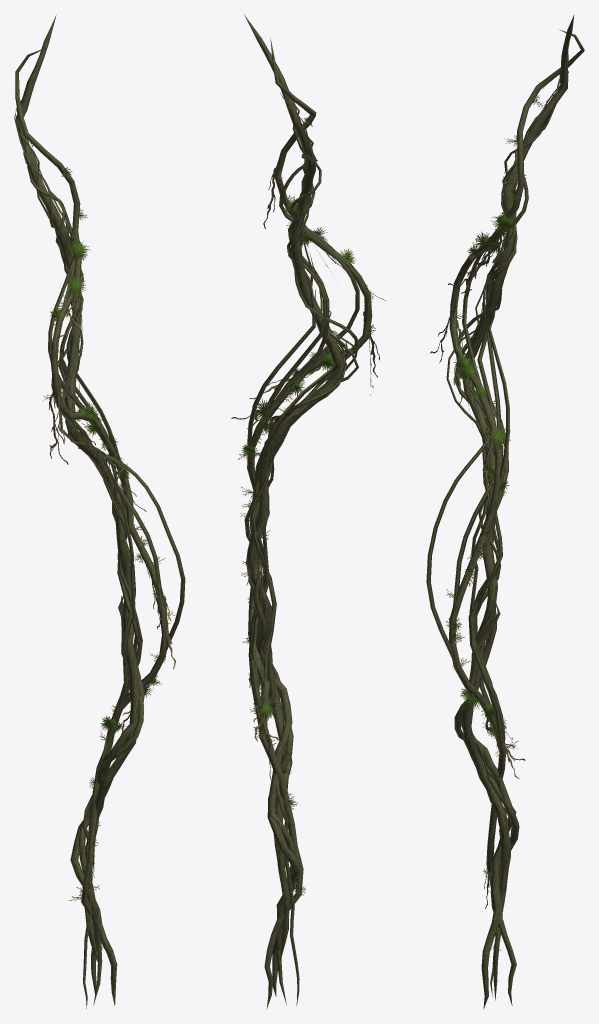
The model's file is Plant - Alien Liana3-BfZWaocy.glb.
3 views of the same model, side by side, from view 1: azimuth 30°, elevation 25°; view 2: azimuth 150°, elevation 25°; view 3: azimuth 270°, elevation 25° (orthographic). The views are drawn at different scales.
Parts seen in each view (by area): view 1: Liana3_L0(Clone); view 2: Liana3_L0(Clone); view 3: Liana3_L0(Clone).
Boxes of the visible parts, x1,y1,x2,y2 form: Liana3_L0(Clone): [14, 15, 185, 1008]; Liana3_L0(Clone): [231, 14, 385, 1009]; Liana3_L0(Clone): [426, 15, 584, 1009].
Size of the model in its own units: 2.17 by 14.33 by 2.08.
2 materials, 2 textured.
